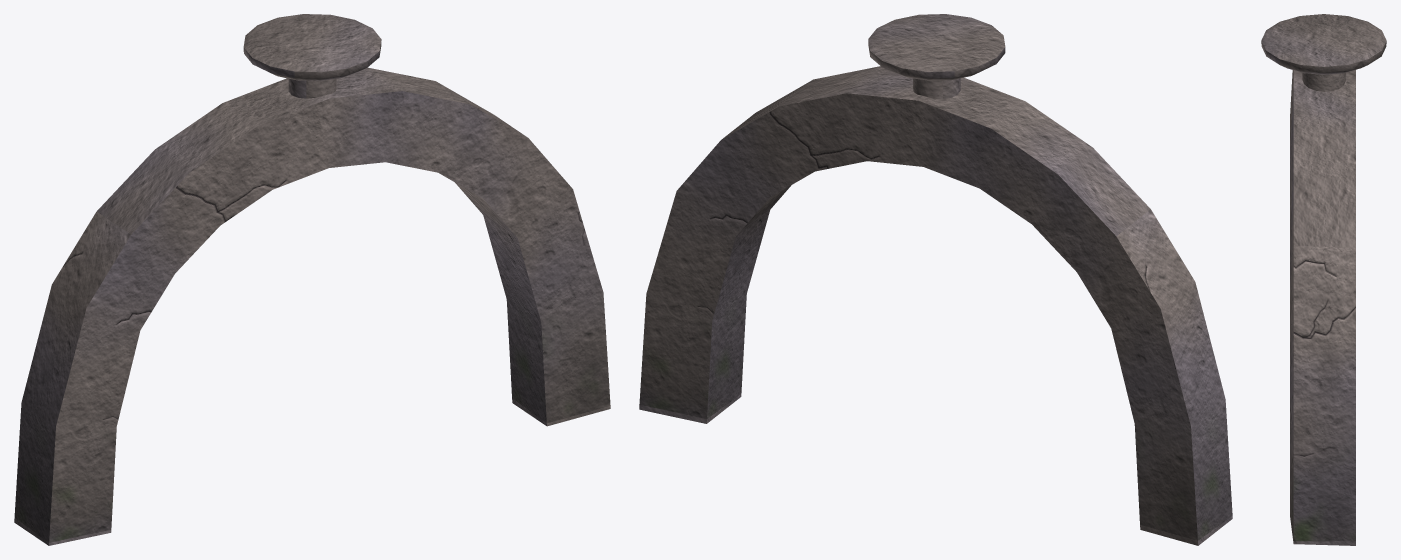
The model's file is House_Round_Gate.fbx.
3 views of the same model, side by side, from view 1: azimuth 30°, elevation 25°; view 2: azimuth 150°, elevation 25°; view 3: azimuth 270°, elevation 25° (orthographic). The views are drawn at different scales.
Parts seen in each view (by area): view 1: House_Round_Gate; view 2: House_Round_Gate; view 3: House_Round_Gate.
Boxes of the visible parts, <box> form: House_Round_Gate: <box>14,14,610,545</box>; House_Round_Gate: <box>639,14,1232,545</box>; House_Round_Gate: <box>1261,14,1386,545</box>.
Bounding box in the file's own units: 4.16 × 3.02 × 0.8925.
